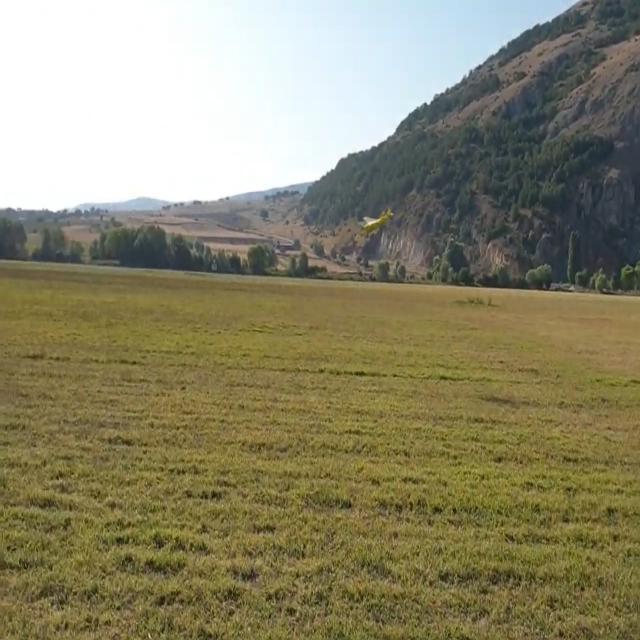UAV: (334, 194, 416, 247)
